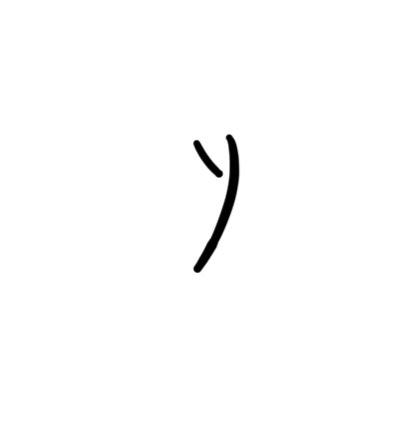so: (174, 127, 244, 285)
